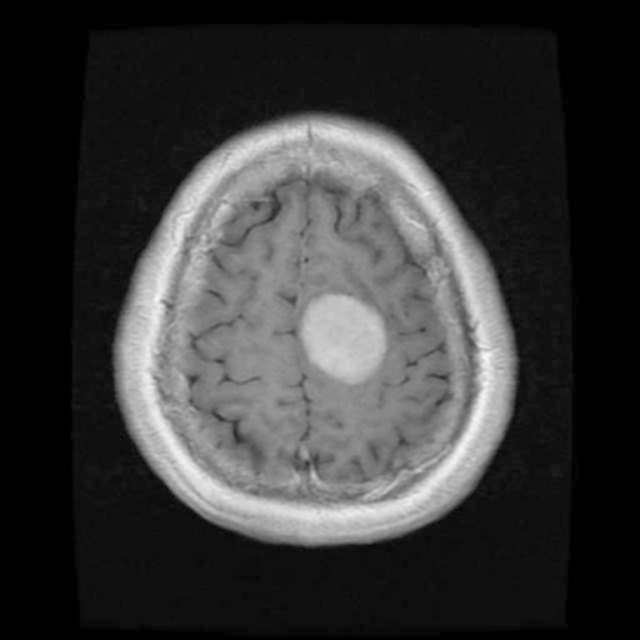meningioma tumor: (288, 277, 412, 398)
